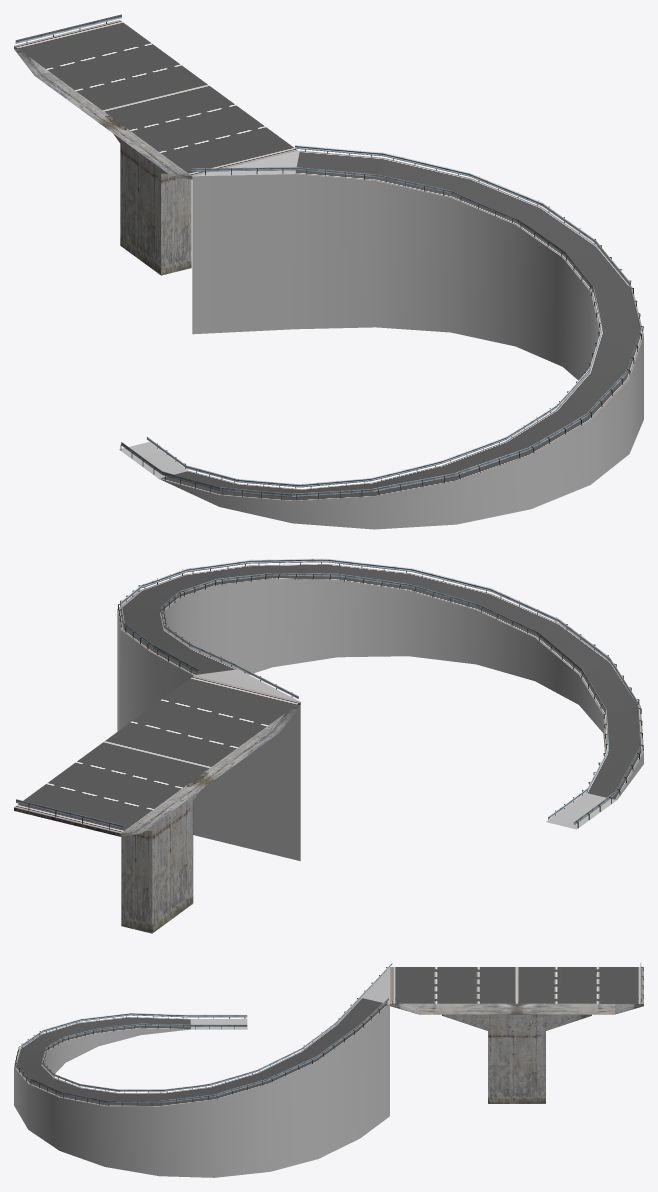
The model's file is 6 line highway offramp.FBX.
The picture shows the model from 3 angles, top to bottom: view 1: azimuth 30°, elevation 25°; view 2: azimuth 150°, elevation 25°; view 3: azimuth 270°, elevation 25°; orthographic projection. The views are drawn at different scales.
Parts seen in each view (by area): view 1: Object003; view 2: Object003; view 3: Object003.
Part boxes in pixels (box(x1,y1,x2,y2)): Object003: box(14, 14, 643, 529); Object003: box(14, 558, 643, 933); Object003: box(14, 962, 643, 1177).
Size of the model in its own units: 51.88 by 17.99 by 87.04.
